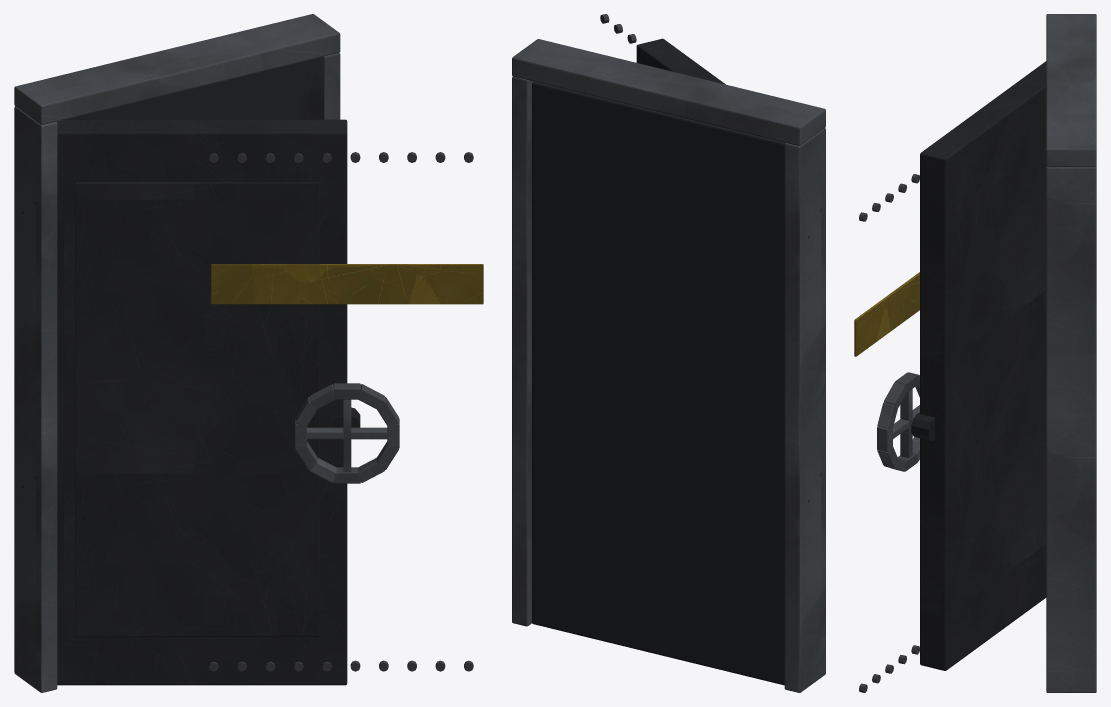
Rendered from door_steel.glb.
3 renders of one model, left to right at view 1: azimuth 30°, elevation 25°; view 2: azimuth 150°, elevation 25°; view 3: azimuth 270°, elevation 25°, orthographic. The views are drawn at different scales.
Parts seen in each view (by area): view 1: door, frame; view 2: frame, door; view 3: door, frame.
Boxes of the visible parts, box(x1,y1,x2,y2) form: door: box(57, 119, 483, 685); frame: box(14, 14, 340, 692); frame: box(512, 39, 825, 692); door: box(600, 14, 725, 84); door: box(854, 61, 1046, 692); frame: box(1046, 14, 1096, 692).
Size of the model in its own units: 1.44 by 2.38 by 0.9609.
4 materials, 3 textured.
